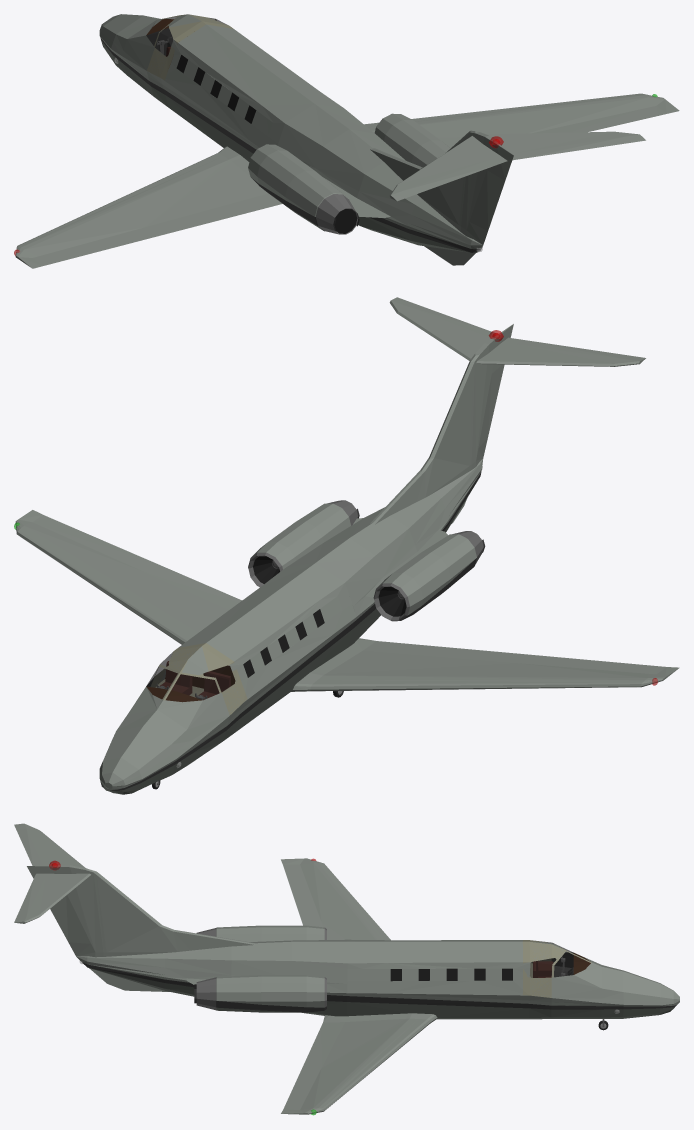
The picture shows the model from 3 angles, top to bottom: view 1: azimuth 30°, elevation 25°; view 2: azimuth 150°, elevation 25°; view 3: azimuth 270°, elevation 25°; orthographic projection. The views are drawn at different scales.
Visible parts, largest first — view 1: ShapeIndexedFaceSet_ShapeIndexedFaceSet.001, ShapeIndexedFaceSet.004_ShapeIndexedFaceSet.005, ShapeIndexedFaceSet.041_ShapeIndexedFaceSet.042, ShapeIndexedFaceSet.015_ShapeIndexedFaceSet.016, ShapeIndexedFaceSet.026_ShapeIndexedFaceSet.027, ShapeIndexedFaceSet.001_ShapeIndexedFaceSet.002, ShapeIndexedFaceSet.033_ShapeIndexedFaceSet.034, ShapeIndexedFaceSet.007_ShapeIndexedFaceSet.008, ShapeIndexedFaceSet.005_ShapeIndexedFaceSet.006, ShapeIndexedFaceSet.002_ShapeIndexedFaceSet.003, ShapeIndexedFaceSet.045_ShapeIndexedFaceSet.046, ShapeIndexedFaceSet.016_ShapeIndexedFaceSet.017 (+9 smaller); view 2: ShapeIndexedFaceSet_ShapeIndexedFaceSet.001, ShapeIndexedFaceSet.004_ShapeIndexedFaceSet.005, ShapeIndexedFaceSet.015_ShapeIndexedFaceSet.016, ShapeIndexedFaceSet.041_ShapeIndexedFaceSet.042, ShapeIndexedFaceSet.026_ShapeIndexedFaceSet.027, ShapeIndexedFaceSet.001_ShapeIndexedFaceSet.002, ShapeIndexedFaceSet.033_ShapeIndexedFaceSet.034, ShapeIndexedFaceSet.045_ShapeIndexedFaceSet.046, ShapeIndexedFaceSet.067_ShapeIndexedFaceSet, ShapeIndexedFaceSet.007_ShapeIndexedFaceSet.008, ShapeIndexedFaceSet.002_ShapeIndexedFaceSet.003, ShapeIndexedFaceSet.006_ShapeIndexedFaceSet.007 (+4 smaller); view 3: ShapeIndexedFaceSet_ShapeIndexedFaceSet.001, ShapeIndexedFaceSet.004_ShapeIndexedFaceSet.005, ShapeIndexedFaceSet.015_ShapeIndexedFaceSet.016, ShapeIndexedFaceSet.001_ShapeIndexedFaceSet.002, ShapeIndexedFaceSet.033_ShapeIndexedFaceSet.034, ShapeIndexedFaceSet.041_ShapeIndexedFaceSet.042, ShapeIndexedFaceSet.002_ShapeIndexedFaceSet.003, ShapeIndexedFaceSet.026_ShapeIndexedFaceSet.027, ShapeIndexedFaceSet.045_ShapeIndexedFaceSet.046, ShapeIndexedFaceSet.067_ShapeIndexedFaceSet, ShapeIndexedFaceSet.005_ShapeIndexedFaceSet.006, ShapeIndexedFaceSet.016_ShapeIndexedFaceSet.017 (+6 smaller).
Part boxes in pixels (x1=…): ShapeIndexedFaceSet_ShapeIndexedFaceSet.001: x1=99, y1=14, x2=482, y2=249; ShapeIndexedFaceSet.004_ShapeIndexedFaceSet.005: x1=15, y1=93, x2=679, y2=268; ShapeIndexedFaceSet.041_ShapeIndexedFaceSet.042: x1=390, y1=131, x2=645, y2=201; ShapeIndexedFaceSet.015_ShapeIndexedFaceSet.016: x1=370, y1=130, x2=513, y2=244; ShapeIndexedFaceSet.026_ShapeIndexedFaceSet.027: x1=248, y1=144, x2=349, y2=216; ShapeIndexedFaceSet.001_ShapeIndexedFaceSet.002: x1=101, y1=40, x2=479, y2=252; ShapeIndexedFaceSet.033_ShapeIndexedFaceSet.034: x1=374, y1=113, x2=450, y2=167; ShapeIndexedFaceSet.007_ShapeIndexedFaceSet.008: x1=145, y1=196, x2=270, y2=236; ShapeIndexedFaceSet.005_ShapeIndexedFaceSet.006: x1=39, y1=227, x2=156, y2=264; ShapeIndexedFaceSet.002_ShapeIndexedFaceSet.003: x1=100, y1=37, x2=481, y2=252; ShapeIndexedFaceSet.045_ShapeIndexedFaceSet.046: x1=147, y1=14, x2=233, y2=80; ShapeIndexedFaceSet.016_ShapeIndexedFaceSet.017: x1=469, y1=170, x2=504, y2=230; ShapeIndexedFaceSet_ShapeIndexedFaceSet.001: x1=99, y1=459, x2=482, y2=789; ShapeIndexedFaceSet.004_ShapeIndexedFaceSet.005: x1=15, y1=510, x2=679, y2=691; ShapeIndexedFaceSet.015_ShapeIndexedFaceSet.016: x1=370, y1=324, x2=513, y2=524; ShapeIndexedFaceSet.041_ShapeIndexedFaceSet.042: x1=389, y1=297, x2=645, y2=366; ShapeIndexedFaceSet.026_ShapeIndexedFaceSet.027: x1=377, y1=534, x2=476, y2=614; ShapeIndexedFaceSet.001_ShapeIndexedFaceSet.002: x1=101, y1=481, x2=477, y2=794; ShapeIndexedFaceSet.033_ShapeIndexedFaceSet.034: x1=251, y1=503, x2=350, y2=569; ShapeIndexedFaceSet.045_ShapeIndexedFaceSet.046: x1=150, y1=643, x2=247, y2=715; ShapeIndexedFaceSet.067_ShapeIndexedFaceSet: x1=146, y1=652, x2=234, y2=701; ShapeIndexedFaceSet.007_ShapeIndexedFaceSet.008: x1=378, y1=642, x2=528, y2=662; ShapeIndexedFaceSet.002_ShapeIndexedFaceSet.003: x1=100, y1=472, x2=481, y2=790; ShapeIndexedFaceSet.006_ShapeIndexedFaceSet.007: x1=39, y1=518, x2=156, y2=571; ShapeIndexedFaceSet_ShapeIndexedFaceSet.001: x1=76, y1=939, x2=679, y2=1006; ShapeIndexedFaceSet.004_ShapeIndexedFaceSet.005: x1=281, y1=858, x2=437, y2=1114; ShapeIndexedFaceSet.015_ShapeIndexedFaceSet.016: x1=27, y1=865, x2=254, y2=957; ShapeIndexedFaceSet.001_ShapeIndexedFaceSet.002: x1=89, y1=968, x2=674, y2=1019; ShapeIndexedFaceSet.033_ShapeIndexedFaceSet.034: x1=216, y1=975, x2=324, y2=1007; ShapeIndexedFaceSet.041_ShapeIndexedFaceSet.042: x1=14, y1=823, x2=90, y2=923; ShapeIndexedFaceSet.002_ShapeIndexedFaceSet.003: x1=82, y1=962, x2=676, y2=1009; ShapeIndexedFaceSet.026_ShapeIndexedFaceSet.027: x1=216, y1=925, x2=324, y2=941; ShapeIndexedFaceSet.045_ShapeIndexedFaceSet.046: x1=522, y1=940, x2=591, y2=997; ShapeIndexedFaceSet.067_ShapeIndexedFaceSet: x1=530, y1=941, x2=590, y2=977; ShapeIndexedFaceSet.005_ShapeIndexedFaceSet.006: x1=284, y1=868, x2=321, y2=921; ShapeIndexedFaceSet.016_ShapeIndexedFaceSet.017: x1=50, y1=895, x2=90, y2=943.
Bounding box in the file's own units: 134 × 41.28 × 148.
